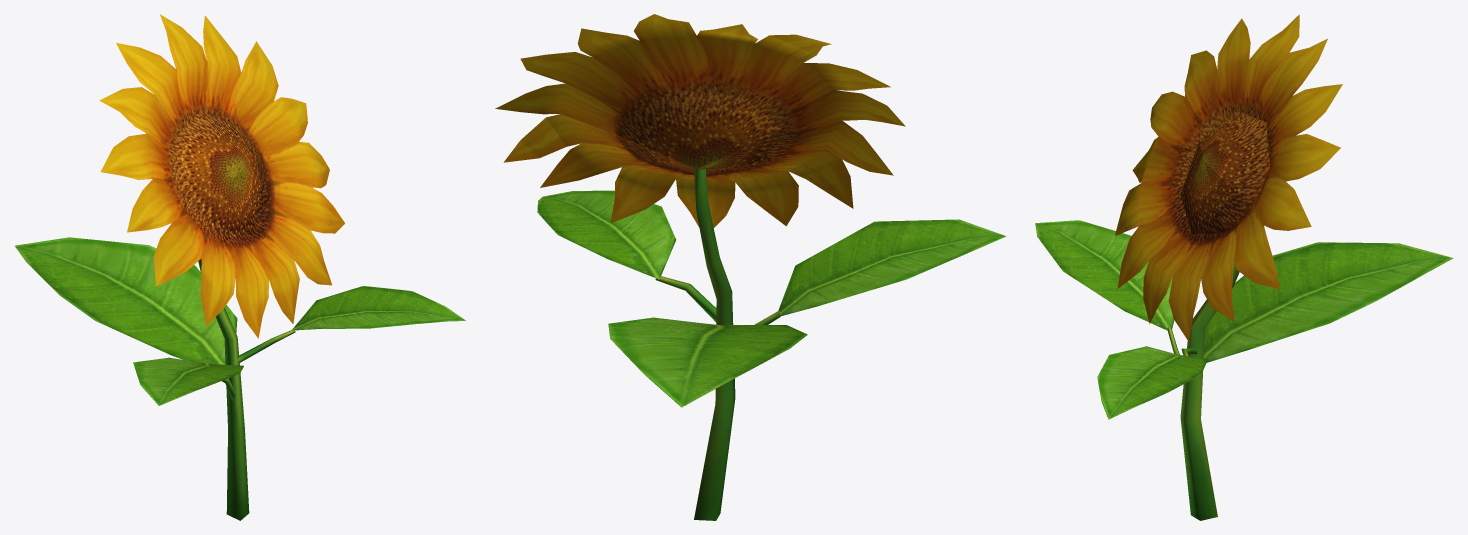
The model's file is flower_04.glb.
3 views of the same model, side by side, from view 1: azimuth 30°, elevation 25°; view 2: azimuth 150°, elevation 25°; view 3: azimuth 270°, elevation 25° (orthographic). The views are drawn at different scales.
Visible parts, largest first — view 1: flower_04; view 2: flower_04; view 3: flower_04.
Boxes of the visible parts, x1,y1,x2,y2 form: flower_04: (15,14,465,520); flower_04: (495,14,1006,520); flower_04: (1035,14,1453,520).
Size of the model in its own units: 1.36 by 1.74 by 1.4.
Materials: 1 (1 with a texture image).
